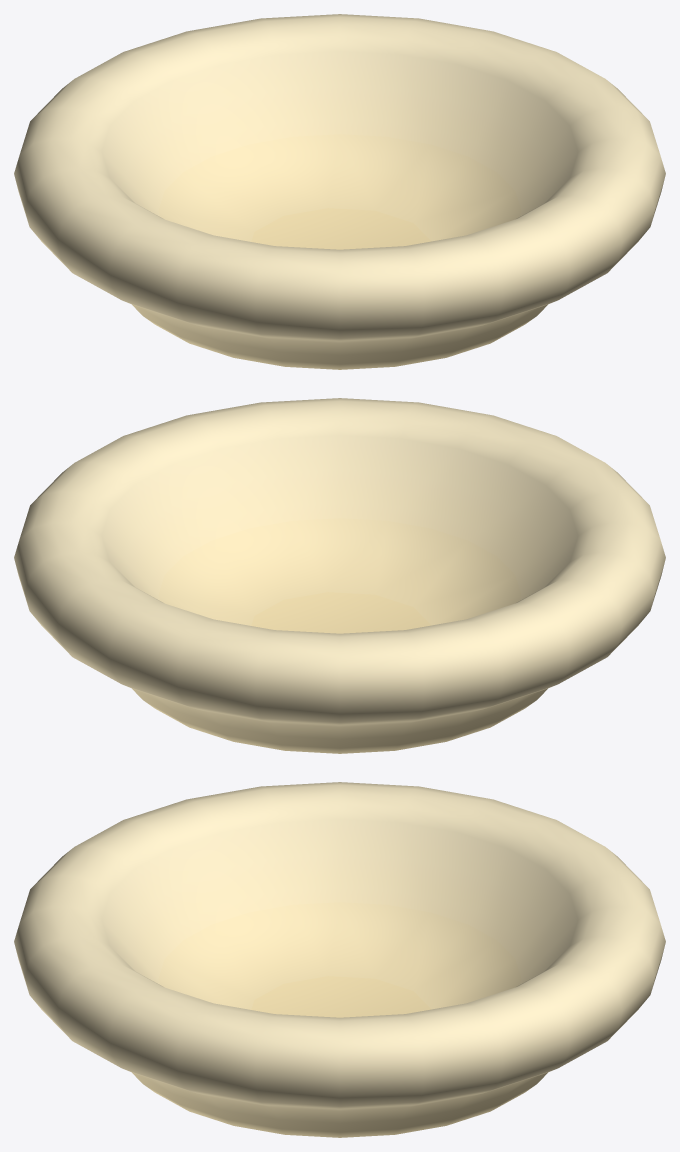
File: Plate_002.fbx
The picture shows the model from 3 angles, top to bottom: view 1: azimuth 30°, elevation 25°; view 2: azimuth 150°, elevation 25°; view 3: azimuth 270°, elevation 25°; orthographic projection.
Parts seen in each view (by area): view 1: Plate_002; view 2: Plate_002; view 3: Plate_002.
Part boxes in pixels (x1,y1,x2,y2): Plate_002: [14, 14, 665, 369]; Plate_002: [14, 398, 665, 753]; Plate_002: [14, 782, 665, 1137].
Bounding box in the file's own units: 0.2742 × 0.0676 × 0.2742.
